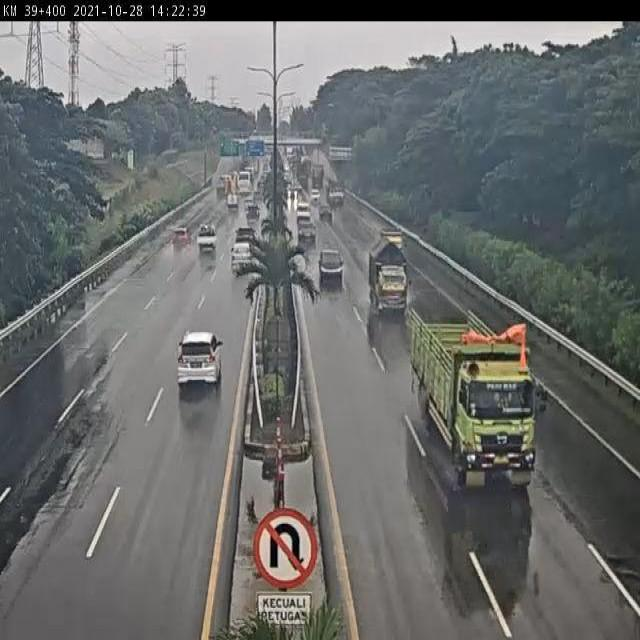truck-l-: (407, 304, 538, 489)
truck-s-: (368, 238, 414, 322)
